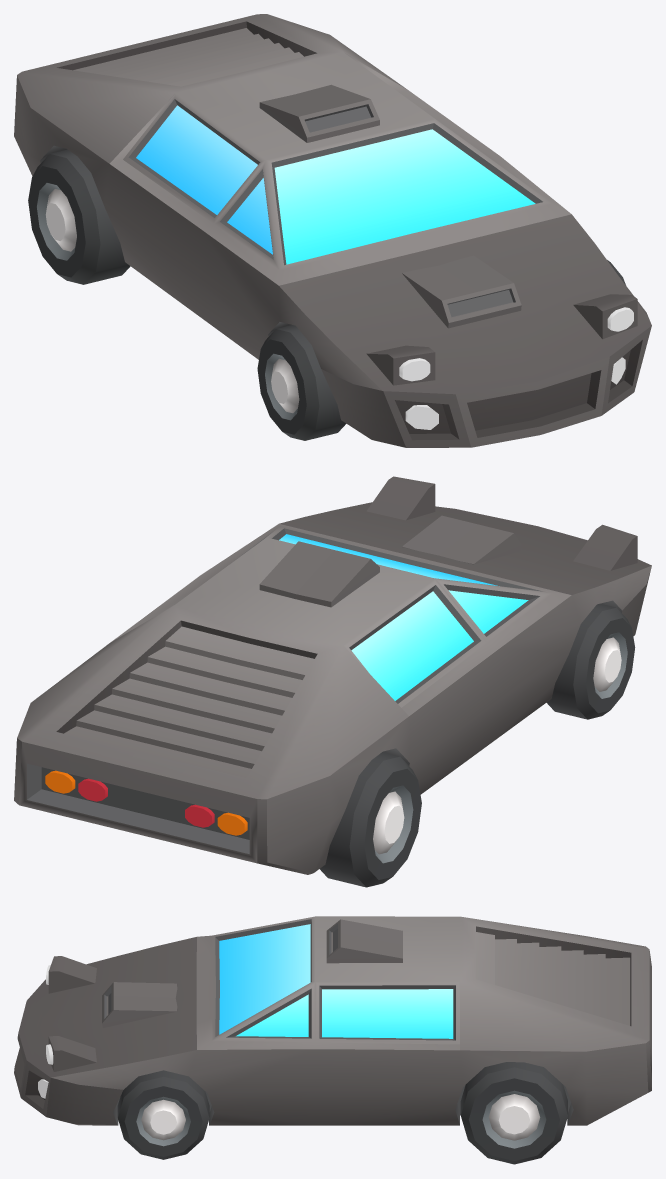
File: Car_40.glb
3 renders of one model, top to bottom at view 1: azimuth 30°, elevation 25°; view 2: azimuth 150°, elevation 25°; view 3: azimuth 270°, elevation 25°, orthographic. The views are drawn at different scales.
Parts seen in each view (by area): view 1: Car_40, Wheel_126, Wheel_125; view 2: Car_40, Wheel_126, Wheel_125; view 3: Car_40, Wheel_128, Wheel_127.
Boxes of the visible parts, x1,y1,x2,y2 form: Car_40: (14,14,651,447); Wheel_126: (28,149,130,284); Wheel_125: (257,325,346,440); Car_40: (14,476,651,874); Wheel_126: (320,752,421,887); Wheel_125: (546,603,635,719); Car_40: (14,916,651,1125); Wheel_128: (460,1062,567,1164); Wheel_127: (117,1070,209,1159).
Size of the model in its own units: 2.39 by 1.44 by 4.91.
Materials: 2 (2 with a texture image).
